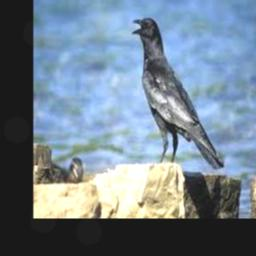Crow: (132, 17, 224, 170)
